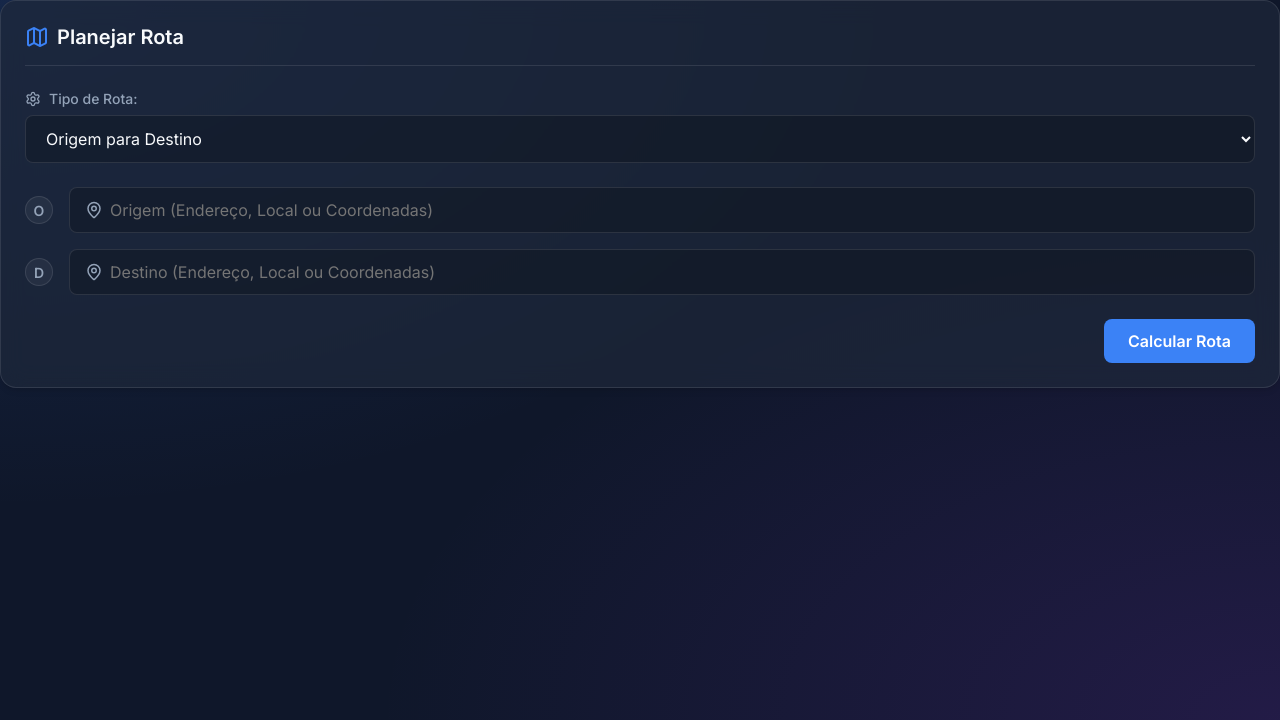
RouteForm Component › changes inputs when mode is changed to Base-Origem-Base
This screenshot has width=1280, height=720.
Select "Base ➔ Origem ➔ Base" in the dropdown at (640, 139), box [25,115,1255,163]
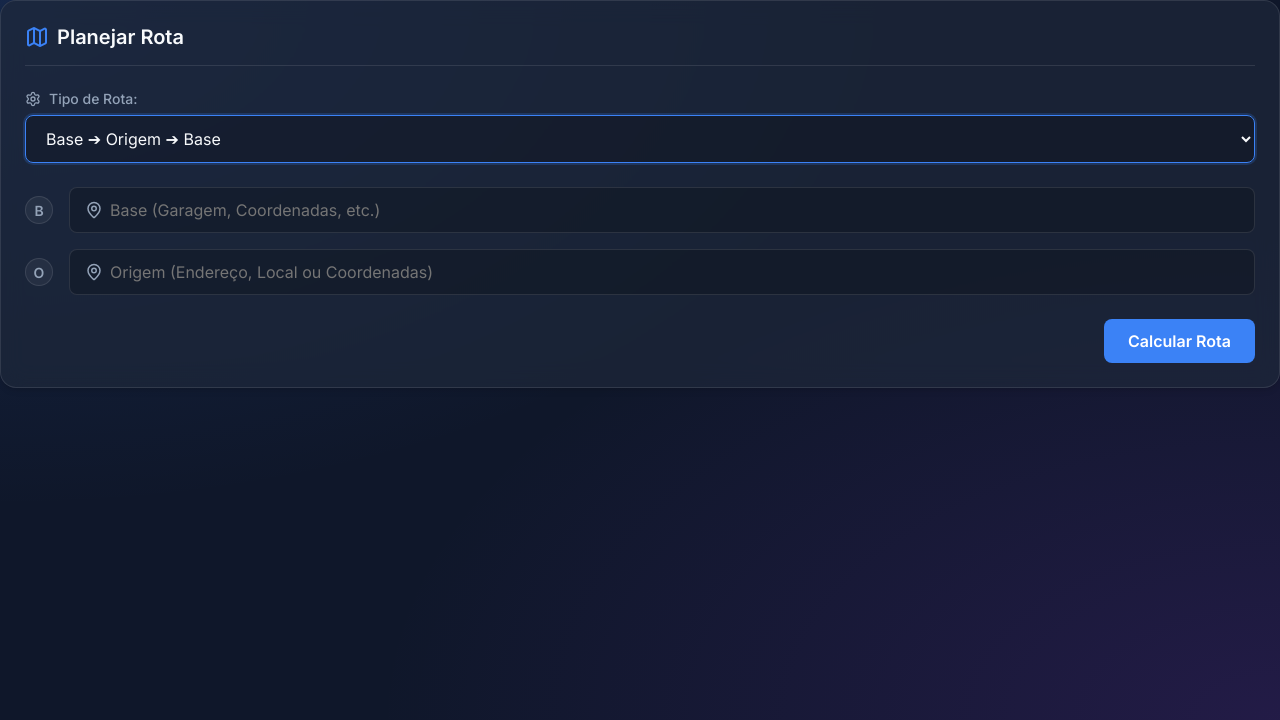
Check: the field with placeholder "Origem (Endereço, Local ou Coordenadas)" is shown, box [69,249,1255,295]
Check: the field with placeholder "Base (Garagem, Coordenadas, etc.)" is shown, box [69,187,1255,233]
